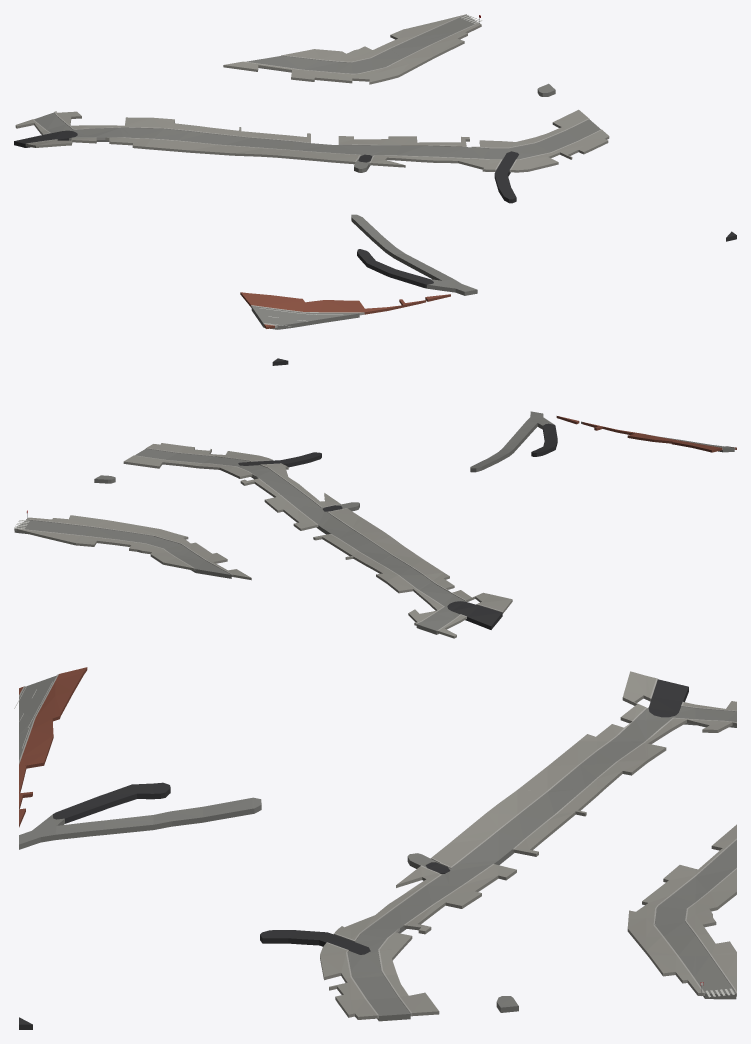
The picture shows the model from 3 angles, top to bottom: view 1: azimuth 30°, elevation 25°; view 2: azimuth 150°, elevation 25°; view 3: azimuth 270°, elevation 25°; orthographic projection. The views are drawn at different scales.
Size of the model in its own units: 148 by 12.87 by 147.
